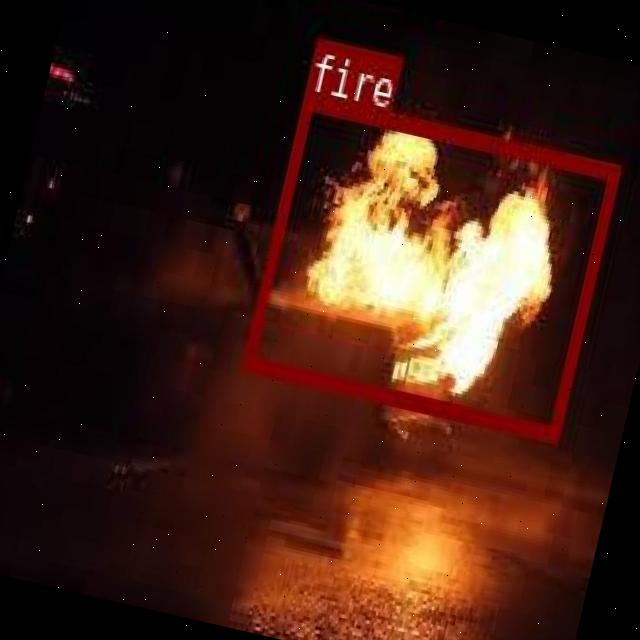fire: (240, 90, 620, 440)
